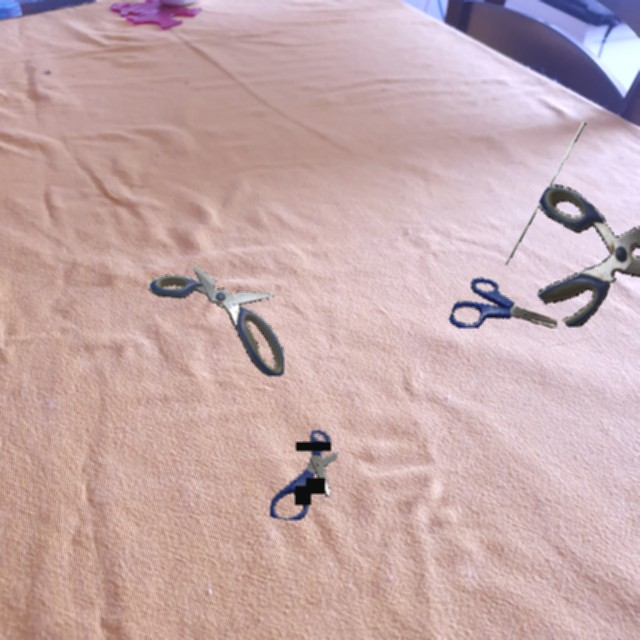scissors: (505, 122, 640, 327), (148, 265, 284, 376), (270, 429, 338, 520), (449, 277, 557, 328)
